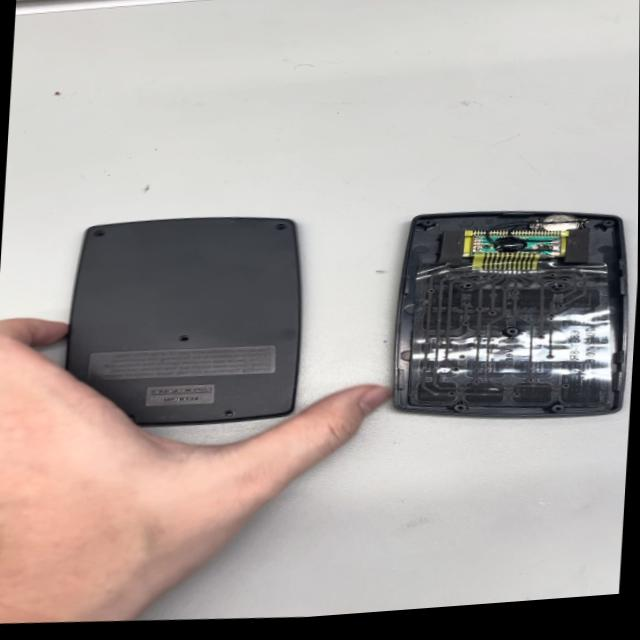back_cover: (33, 195, 319, 448)
front_panel: (387, 184, 638, 432)
